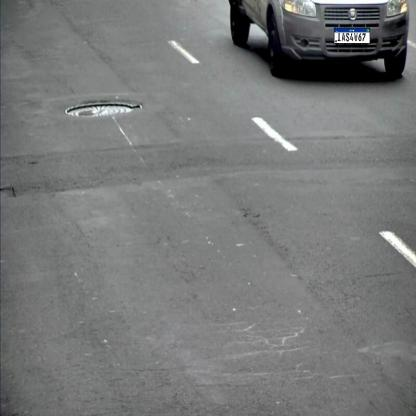PlacaM: (334, 28, 370, 44)
